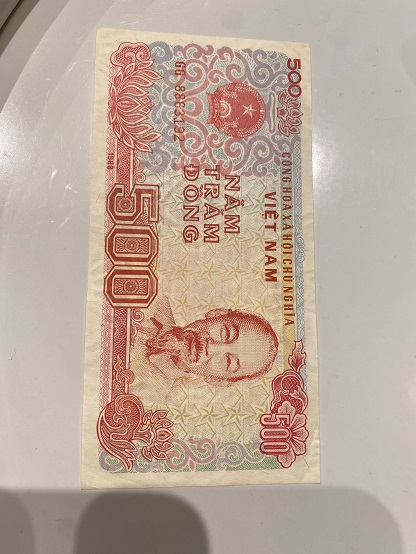500vnd: (79, 30, 322, 488)
